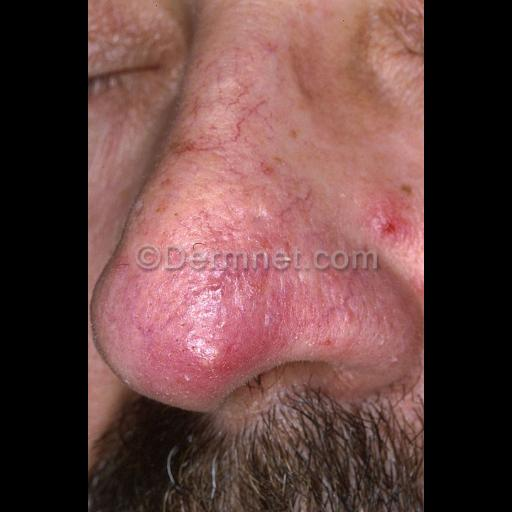Skin_Lesion: (244, 258, 294, 330), (366, 200, 418, 250), (215, 264, 237, 308), (289, 1, 337, 21), (228, 122, 244, 146), (412, 264, 424, 296), (288, 116, 300, 144), (180, 314, 196, 334), (260, 160, 276, 180)
